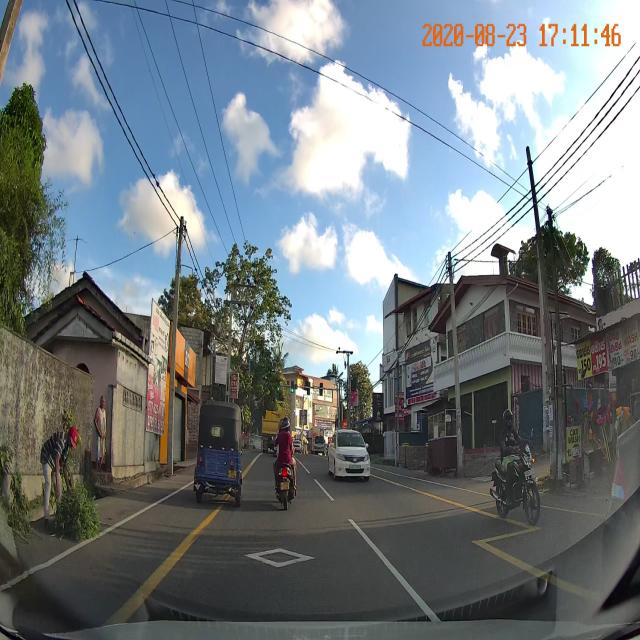Romb: (239, 545, 321, 571)
